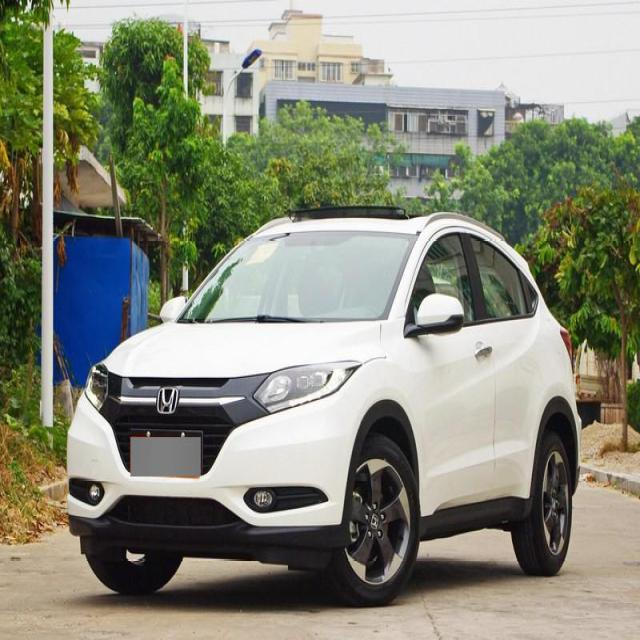door: (465, 238, 535, 510)
front_bumper: (63, 396, 354, 548)
front_glass: (180, 228, 415, 324)
front_left_side_door: (404, 225, 499, 527)
front_left_side_light: (254, 358, 352, 415)
front_left_side_mirror: (416, 291, 464, 337)
front_right_side_light: (84, 359, 113, 412)
front_right_side_mirror: (155, 296, 186, 326)
wheel: (326, 440, 420, 603), (515, 423, 574, 574)
